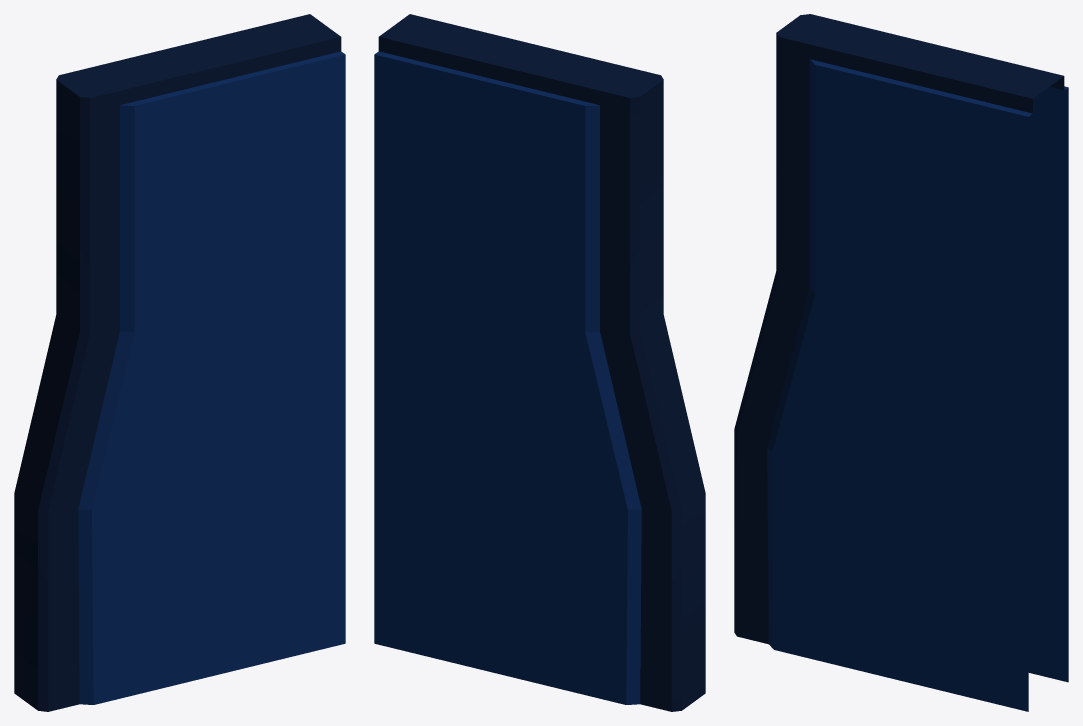
Rendered from Module_Ss_doorL_2X_B.FBX.
The picture shows the model from 3 angles, left to right: view 1: azimuth 30°, elevation 25°; view 2: azimuth 150°, elevation 25°; view 3: azimuth 330°, elevation 25°; orthographic projection.
Visible parts, largest first — view 1: Module_Ss_doorL_2X_Bb; view 2: Module_Ss_doorL_2X_Bb; view 3: Module_Ss_doorL_2X_Bb.
Boxes of the visible parts, box(x1,y1,x2,y2) form: Module_Ss_doorL_2X_Bb: box(14, 14, 345, 711); Module_Ss_doorL_2X_Bb: box(374, 14, 705, 711); Module_Ss_doorL_2X_Bb: box(734, 14, 1068, 711).
Size of the model in its own units: 38.92 by 74.99 by 8.97.
